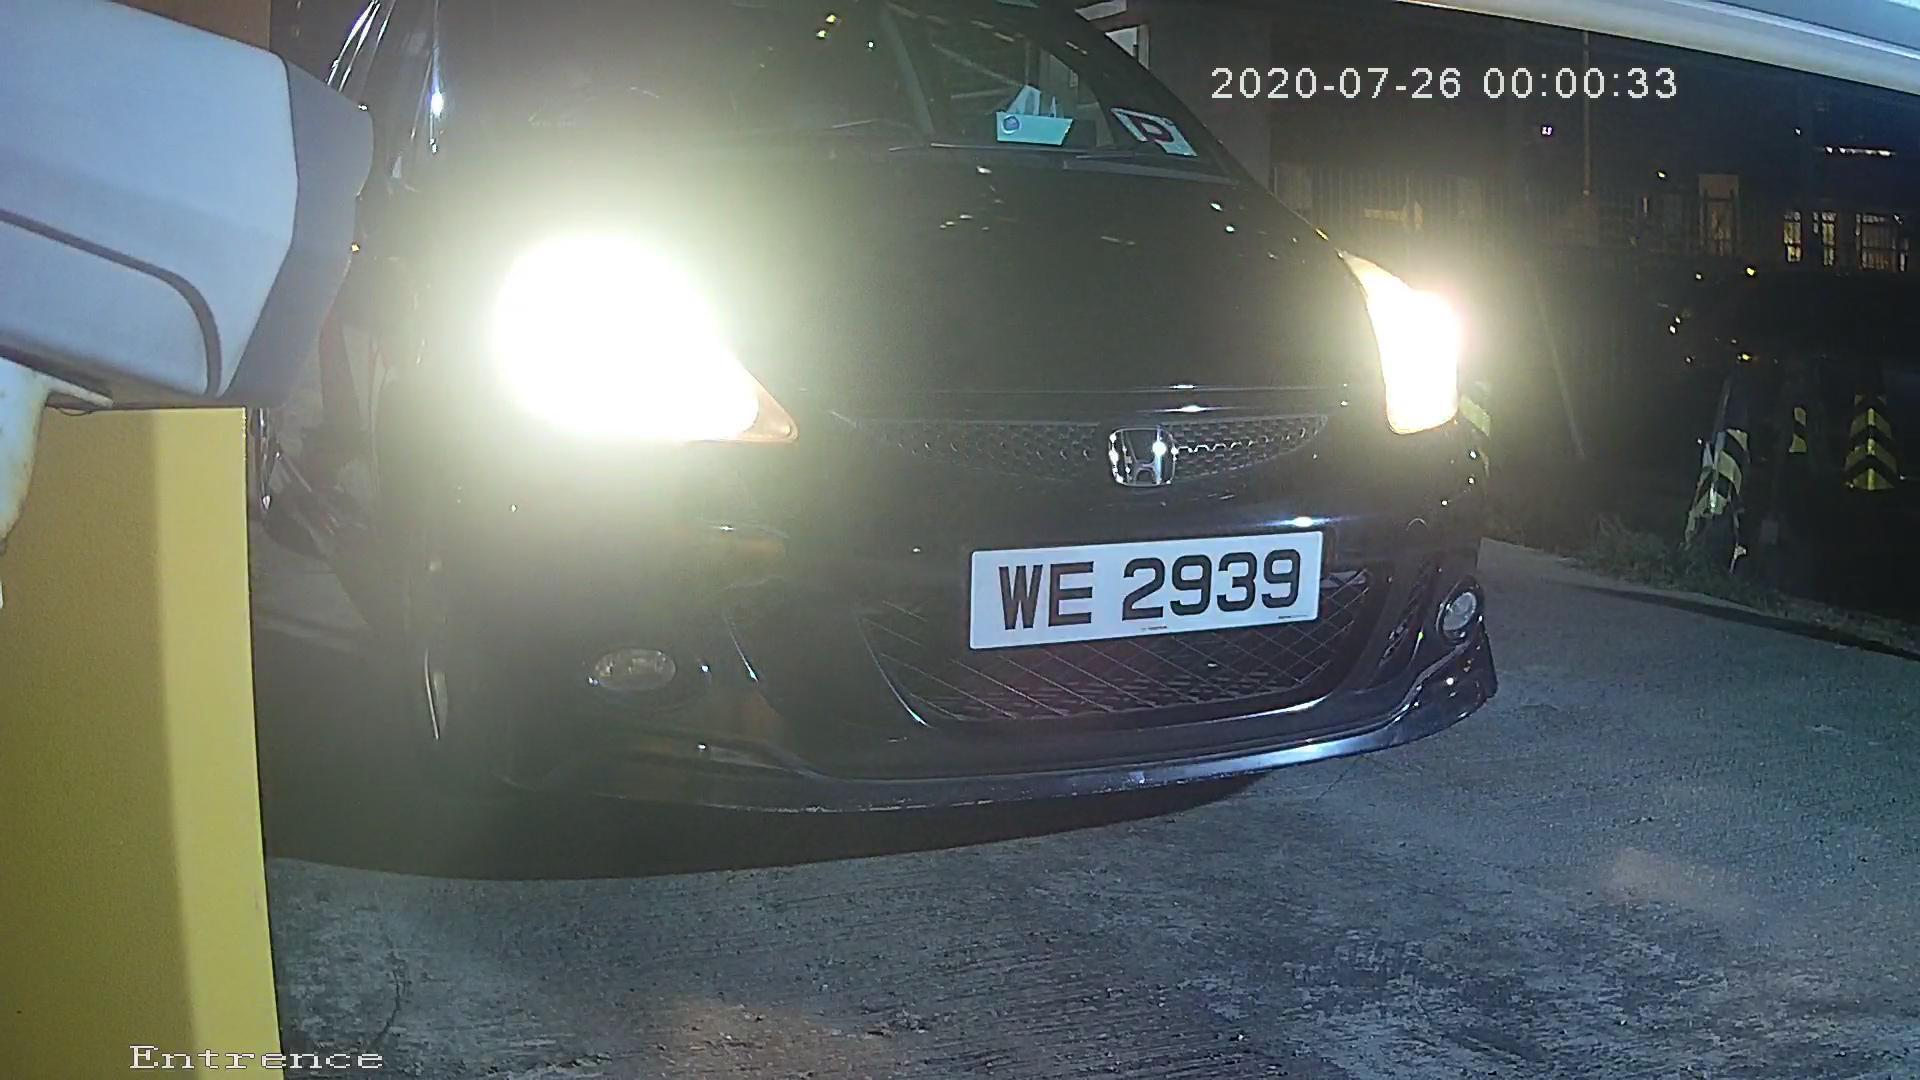privatecar: (318, 1, 1689, 887)
